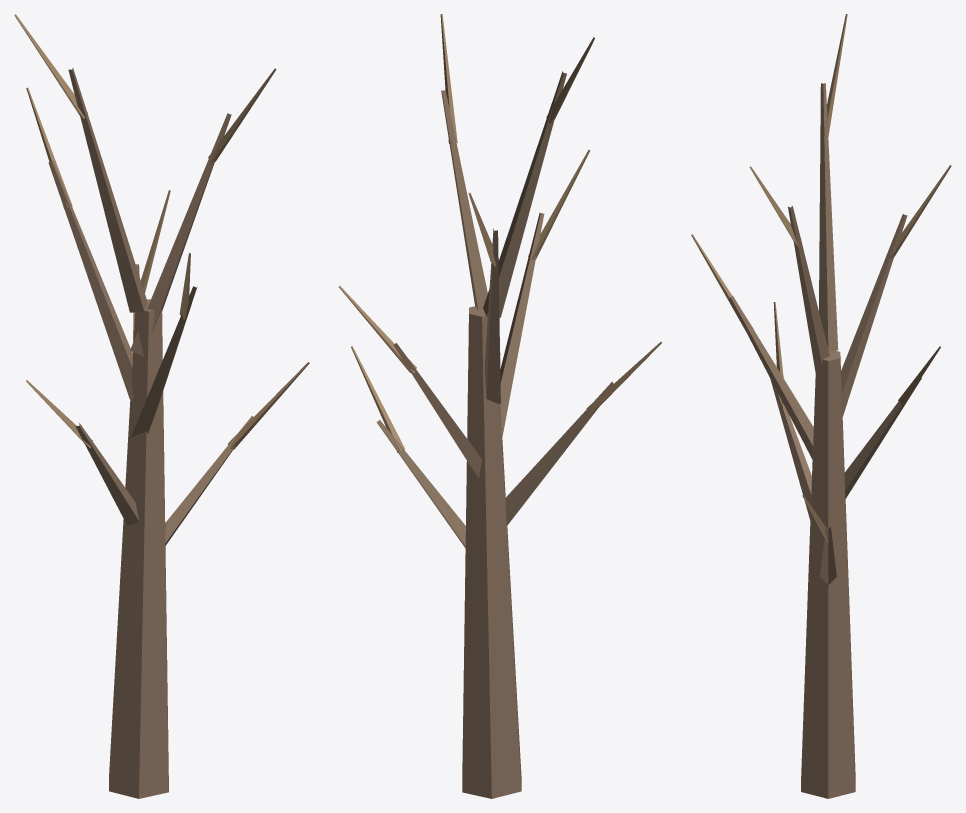
3 views of the same model, side by side, from view 1: azimuth 30°, elevation 25°; view 2: azimuth 150°, elevation 25°; view 3: azimuth 270°, elevation 25° (orthographic). The views are drawn at different scales.
Visible parts, largest first — view 1: Body; view 2: Body; view 3: Body.
Boxes of the visible parts, x1,y1,x2,y2 form: Body: (14,14,309,798); Body: (338,14,661,798); Body: (691,14,951,798).
Bounding box in the file's own units: 2.4 × 6.06 × 1.99.
